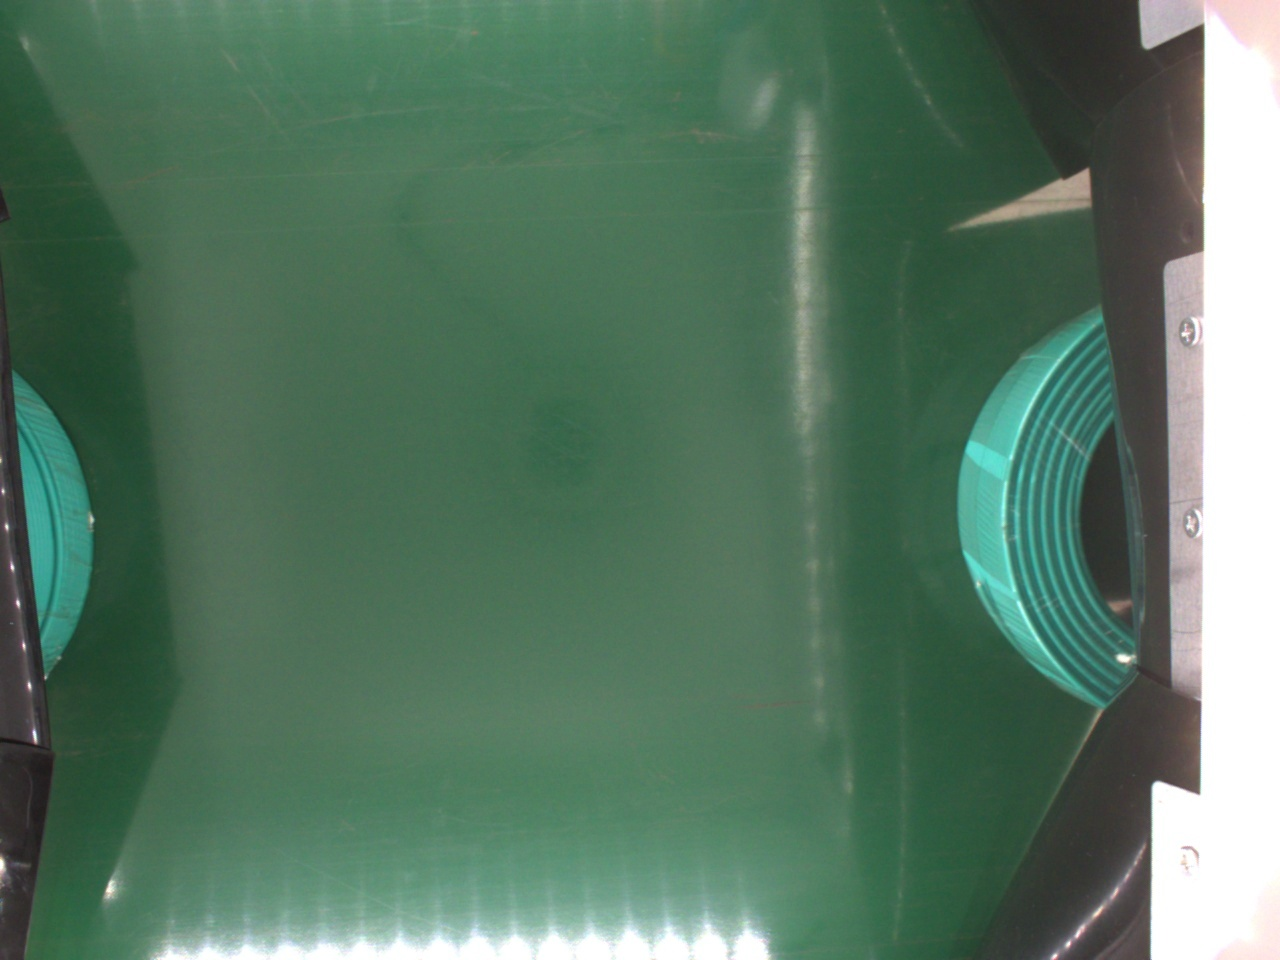green: (959, 306, 1149, 704)
